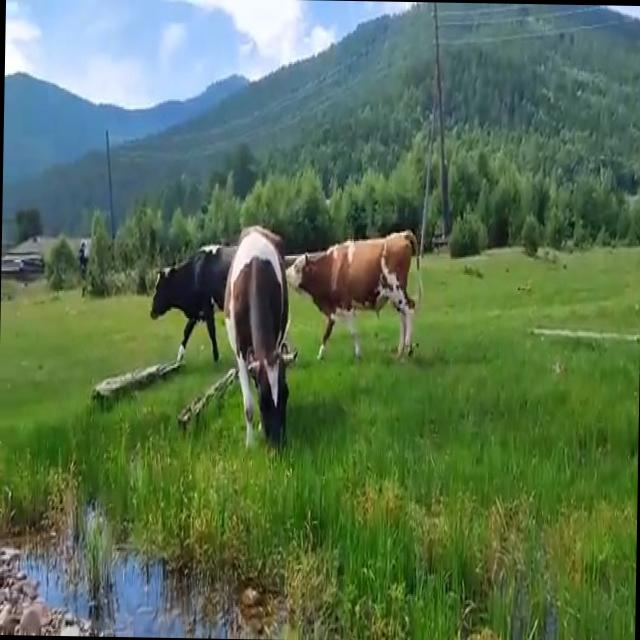cow: (152, 225, 291, 445), (288, 230, 416, 357)
